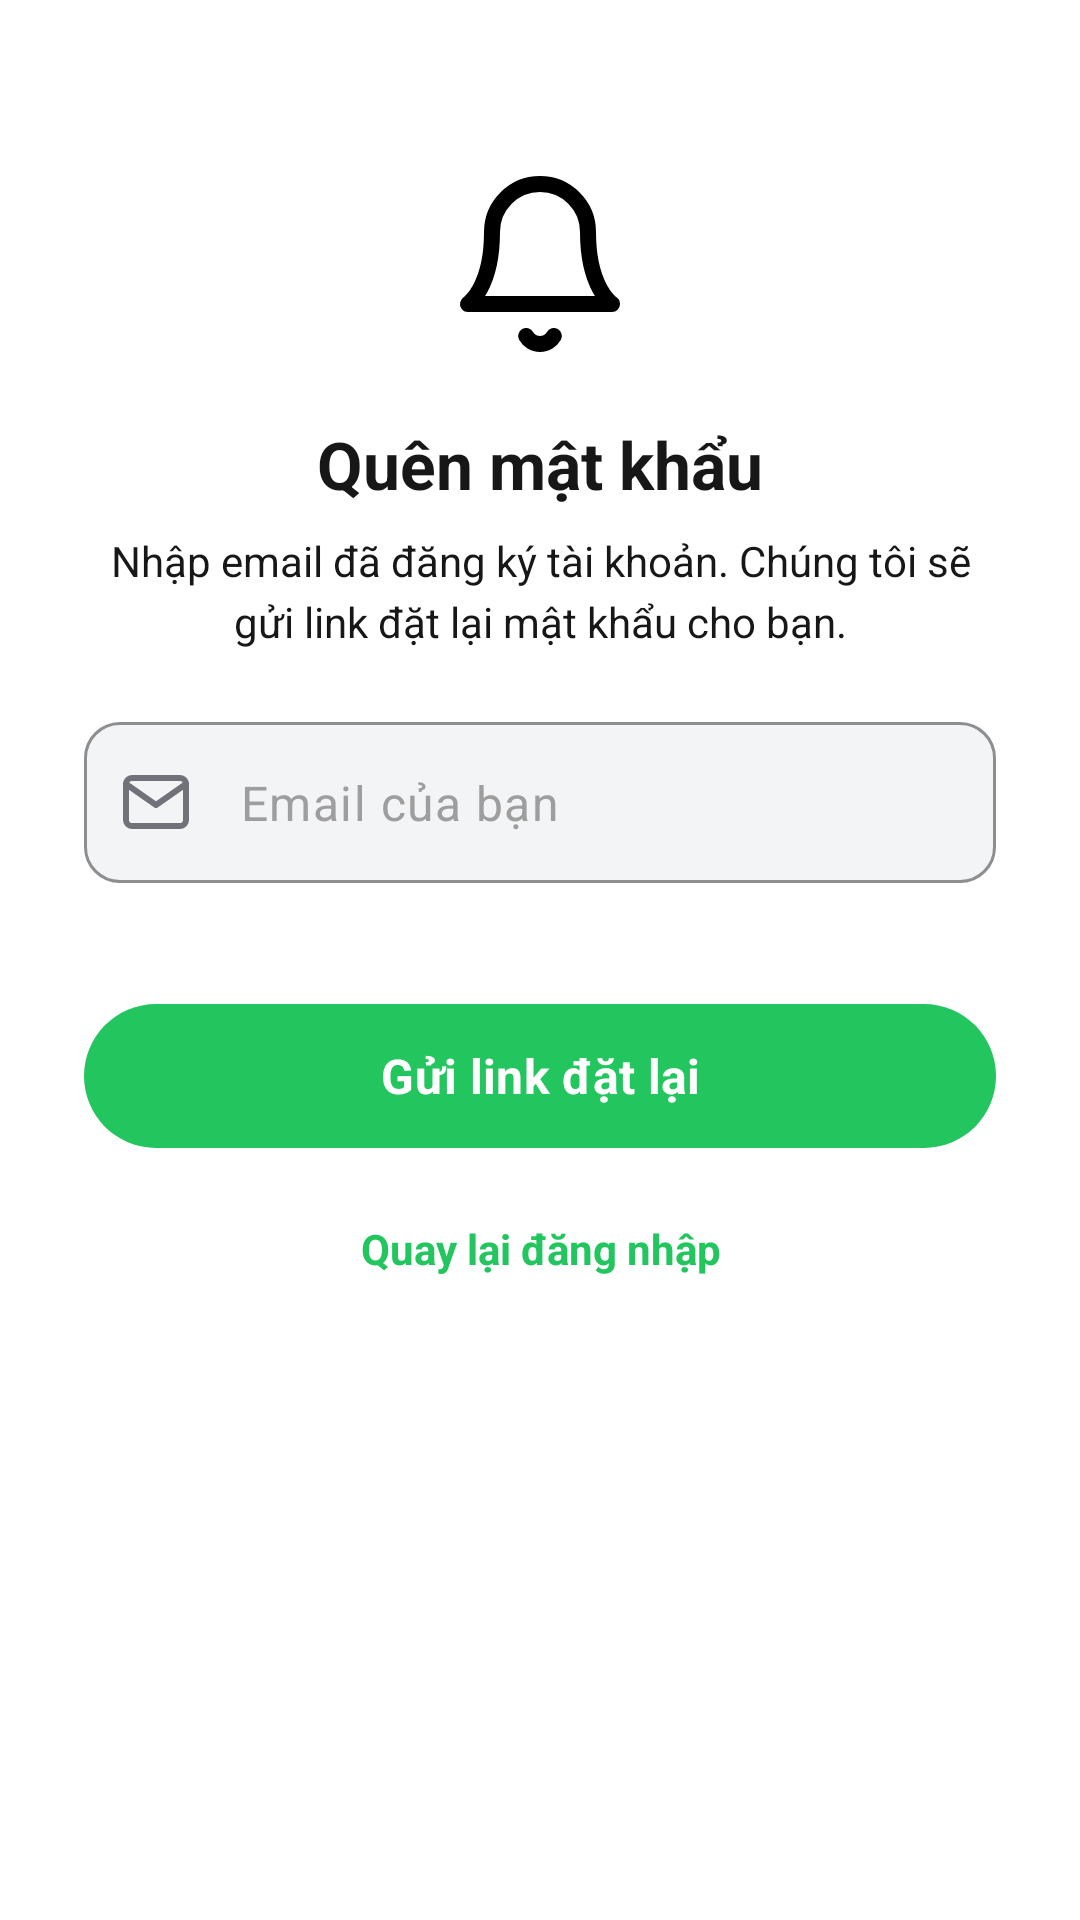

Where icons sit on this 1080*1920 app screen, as region(x1, y1, x2, y2):
noti feather: region(460, 176, 620, 352)
